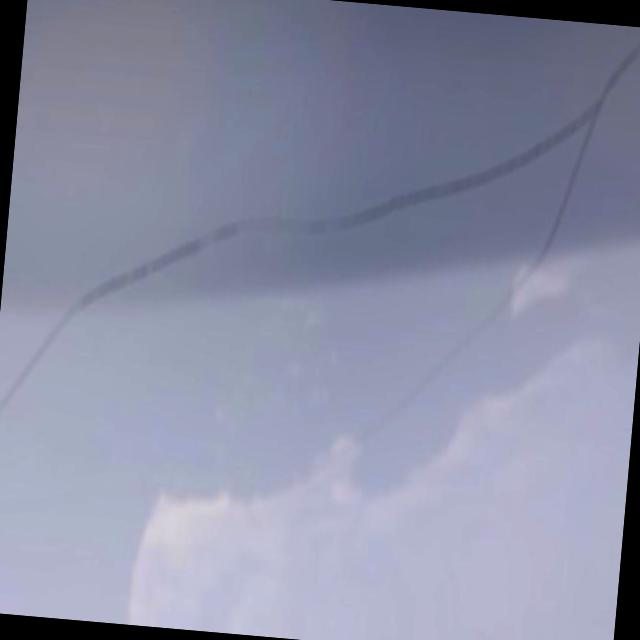crack: (179, 92, 545, 332)
